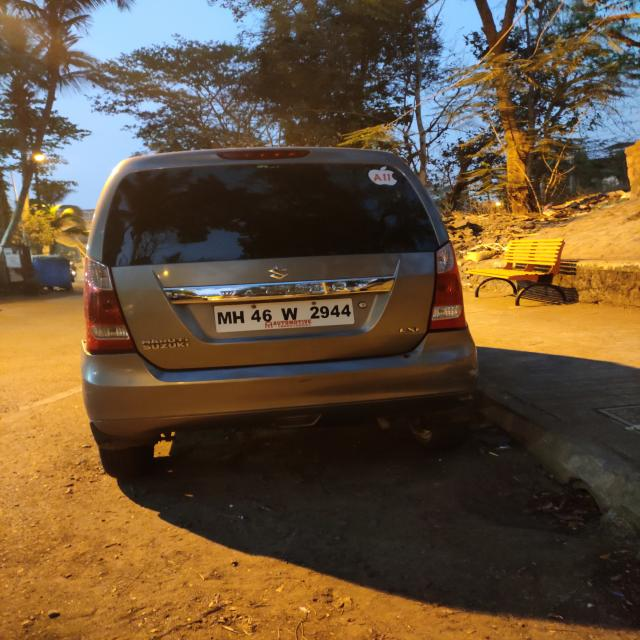Number-Plate: (216, 299, 355, 332)
